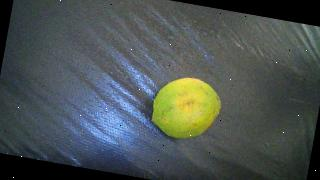DESECHO: (148, 72, 225, 145)
